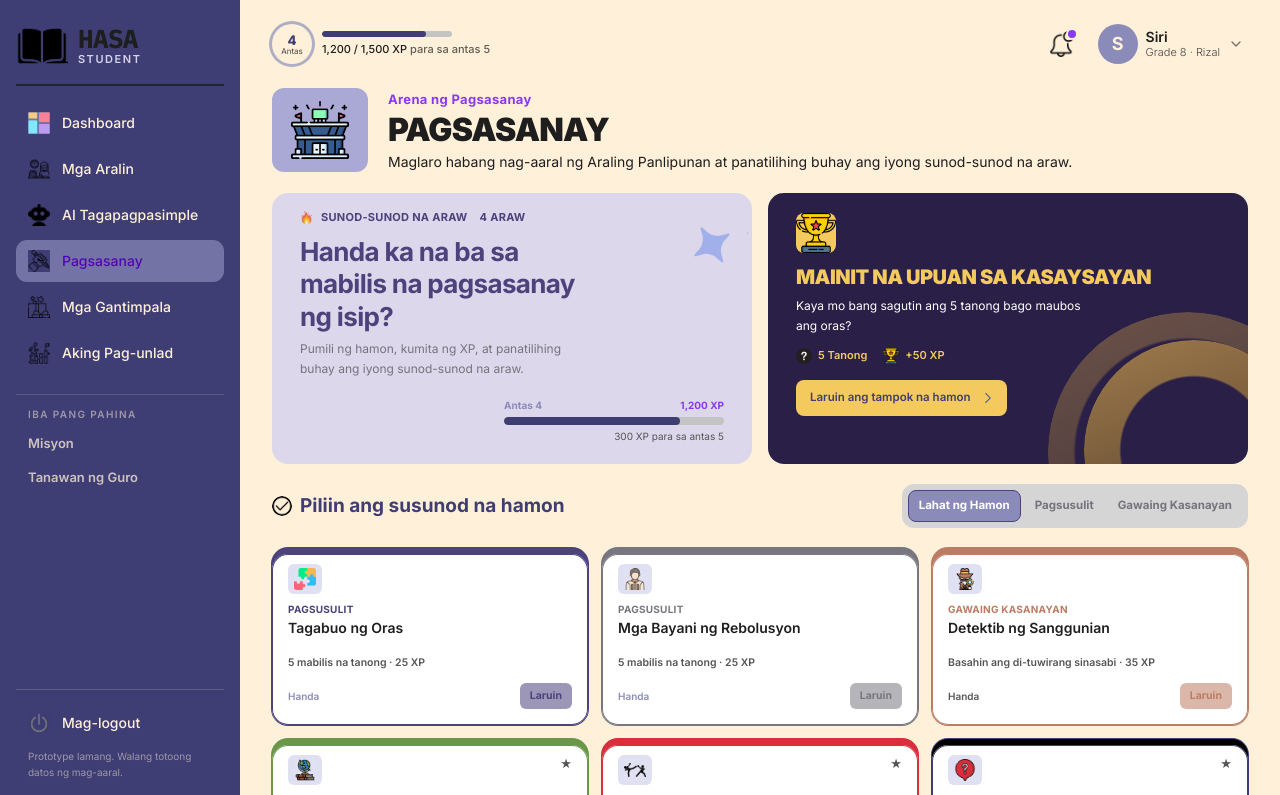
Scenario: katapatan ng prototype › nagsasala ng Pagsusulit at Gawaing Kasanayan
Click the button "Gawaing Kasanayan": (1175, 506) [1108,491,1242,521]
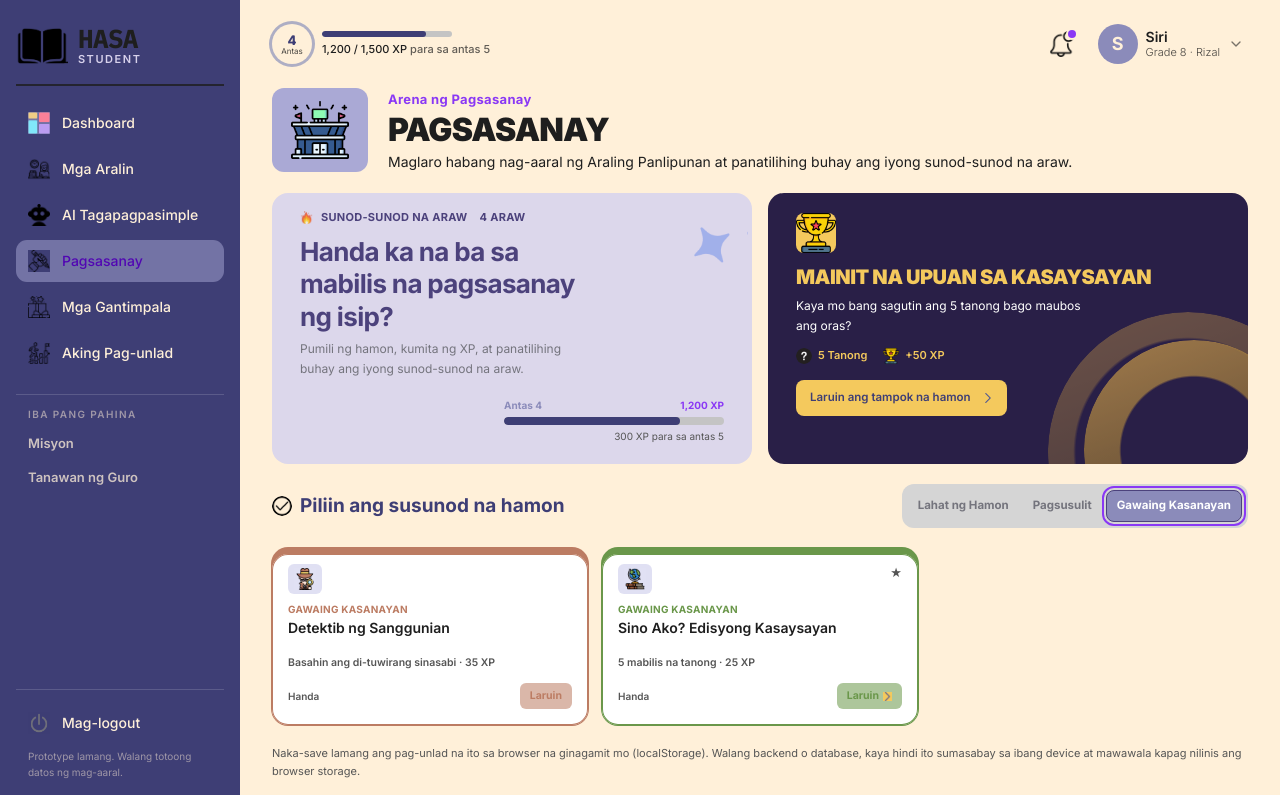
Expected: the heading "Detektib ng Sanggunian" is shown, [288,619,450,636]
Expected: the heading "Tagabuo ng Oras" is gone
Click the button "Pagsusulit": (1062, 506) [1023,491,1102,521]
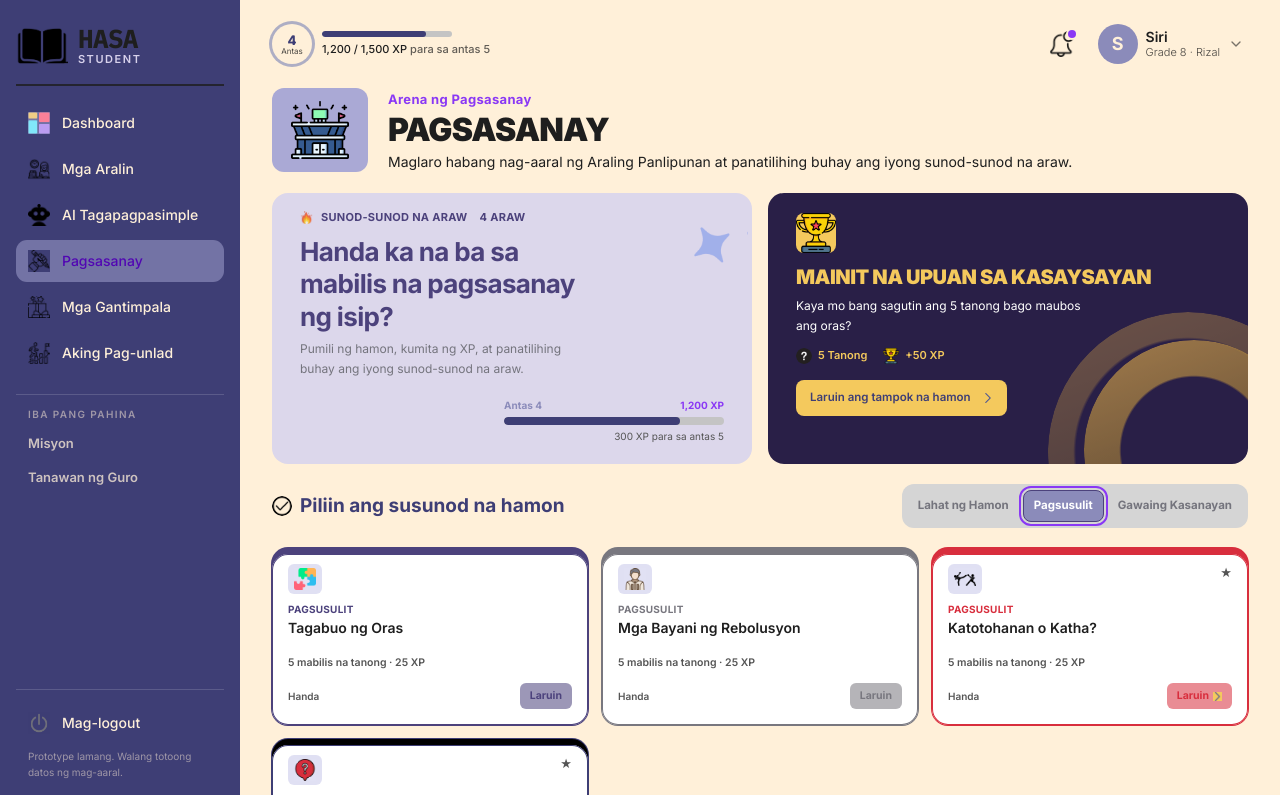
Expected: the heading "Tagabuo ng Oras" is shown, [288,619,403,636]
Expected: the heading "Detektib ng Sanggunian" is gone
